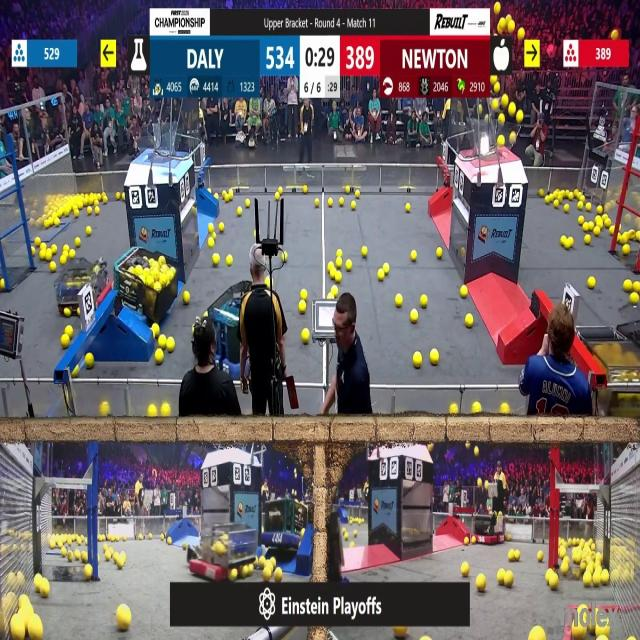ball_airborne: (498, 16, 505, 32), (507, 103, 515, 115), (506, 22, 514, 33), (500, 96, 508, 107), (517, 110, 524, 122), (518, 29, 526, 39), (510, 133, 518, 143), (492, 100, 499, 111), (494, 2, 500, 14), (610, 31, 617, 41), (493, 85, 500, 95), (498, 136, 504, 147), (498, 112, 504, 122), (491, 74, 497, 84), (475, 479, 481, 488), (479, 105, 485, 114), (484, 482, 489, 492), (473, 448, 478, 457), (465, 443, 470, 450)
ball_ground: (116, 607, 130, 632), (530, 628, 544, 640), (478, 576, 487, 594), (40, 582, 49, 599), (503, 570, 512, 586), (85, 564, 94, 580), (394, 626, 405, 639), (100, 404, 110, 418), (264, 566, 274, 580), (550, 574, 559, 589), (429, 350, 438, 364), (154, 349, 162, 364), (87, 353, 95, 367), (414, 353, 422, 367), (167, 339, 175, 353), (461, 562, 469, 576), (601, 570, 609, 584), (594, 572, 602, 586), (471, 401, 480, 413), (243, 565, 252, 577), (163, 405, 171, 418), (275, 568, 283, 581), (420, 294, 428, 307), (62, 336, 70, 349), (584, 573, 592, 586), (561, 561, 569, 574), (500, 405, 509, 416), (412, 310, 419, 324), (303, 331, 310, 345), (497, 570, 504, 584), (624, 280, 632, 292), (151, 324, 159, 336), (148, 406, 156, 418), (159, 338, 167, 350), (116, 557, 124, 569), (465, 314, 472, 327), (630, 292, 638, 303), (622, 234, 630, 245), (298, 302, 305, 314), (395, 294, 402, 306), (451, 406, 458, 418), (589, 277, 596, 289), (299, 288, 306, 300), (232, 568, 239, 580), (256, 557, 264, 567), (411, 250, 418, 261), (212, 253, 219, 264), (460, 286, 467, 297), (566, 237, 573, 248), (81, 552, 88, 563), (183, 291, 189, 303), (624, 244, 630, 256), (337, 272, 343, 284), (223, 191, 231, 200), (435, 248, 442, 258), (66, 326, 73, 336), (69, 249, 76, 259), (507, 552, 514, 562), (44, 251, 51, 261), (379, 271, 385, 282), (72, 365, 78, 376), (561, 237, 567, 248), (634, 281, 640, 292), (61, 255, 68, 264), (594, 226, 601, 235), (226, 255, 232, 265), (361, 246, 367, 256), (74, 238, 80, 248), (331, 286, 337, 296), (537, 552, 543, 562), (88, 225, 94, 235), (586, 236, 592, 246), (266, 278, 272, 288), (337, 258, 343, 268), (75, 551, 81, 561), (39, 250, 45, 260), (53, 242, 58, 254), (596, 216, 602, 226), (559, 549, 565, 559), (604, 217, 610, 227), (596, 207, 603, 215), (347, 261, 352, 272), (50, 264, 56, 273), (577, 215, 583, 224), (34, 238, 40, 247), (64, 246, 70, 255), (407, 204, 413, 213), (578, 562, 584, 571), (68, 552, 74, 561), (384, 265, 389, 275), (0, 280, 5, 290), (516, 551, 521, 561), (282, 252, 287, 262), (237, 208, 243, 216), (105, 553, 111, 561), (554, 200, 560, 208), (328, 272, 334, 280), (327, 264, 333, 272), (538, 188, 544, 196), (586, 204, 592, 212), (61, 550, 67, 558), (460, 248, 466, 256), (44, 220, 50, 228), (219, 222, 224, 231), (209, 239, 214, 248), (65, 309, 70, 318), (577, 202, 582, 211), (351, 202, 356, 211), (609, 225, 614, 234), (584, 222, 589, 231), (74, 209, 79, 218), (618, 234, 622, 245), (88, 208, 94, 215), (326, 292, 332, 299), (98, 534, 104, 541), (340, 199, 345, 207), (355, 190, 360, 198), (243, 201, 248, 209), (564, 205, 569, 213), (470, 536, 475, 544), (304, 185, 309, 193), (279, 186, 284, 194), (56, 218, 61, 226), (209, 223, 213, 232), (32, 247, 36, 256), (636, 233, 640, 242), (506, 534, 511, 541), (299, 529, 304, 536), (464, 536, 468, 544), (316, 200, 320, 208), (338, 249, 342, 257), (328, 200, 332, 208), (276, 192, 280, 200), (116, 191, 120, 199), (168, 536, 172, 544), (544, 197, 548, 205), (76, 309, 80, 317), (215, 194, 219, 202), (120, 191, 124, 199), (104, 197, 108, 205), (345, 532, 349, 540), (139, 534, 144, 540), (96, 208, 100, 215), (346, 186, 350, 193), (212, 233, 216, 239), (149, 536, 152, 543), (162, 534, 165, 541), (204, 313, 208, 318), (354, 530, 357, 536), (123, 535, 126, 541)
goal: (465, 122, 519, 160), (130, 130, 189, 160)
robot_blue: (116, 253, 180, 326), (207, 282, 248, 384), (260, 501, 304, 546)
robot_red: (188, 530, 254, 582), (55, 258, 110, 315), (474, 512, 507, 545)
